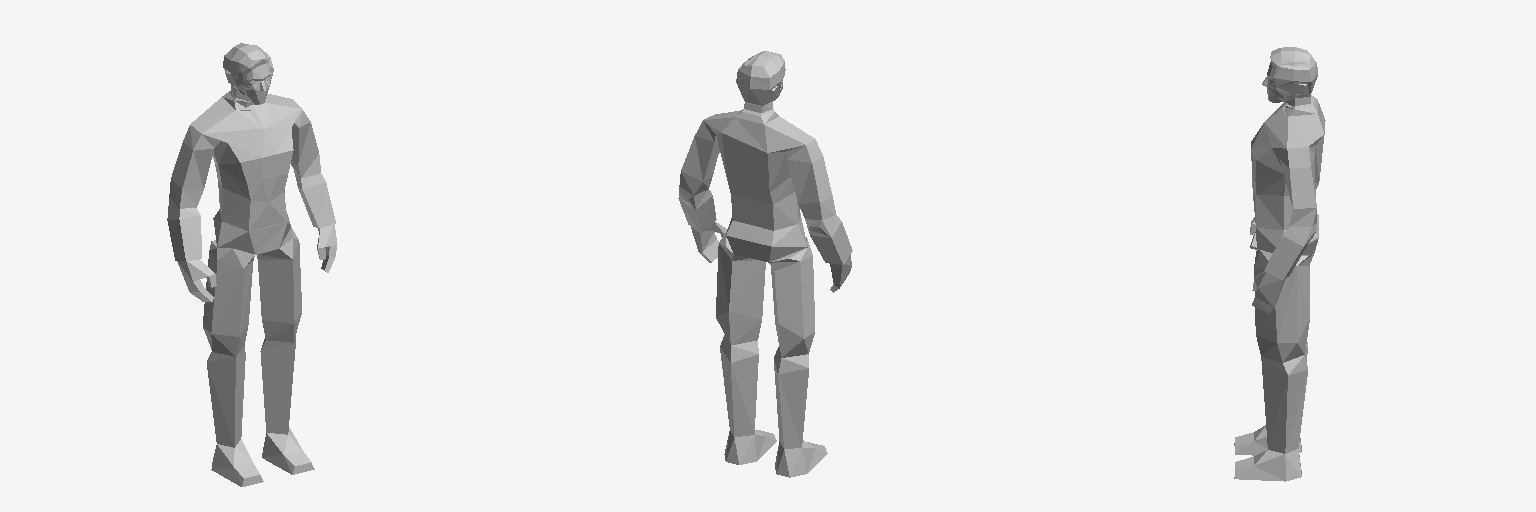
File: Manuel21.obj
3 renders of one model, left to right at view 1: azimuth 30°, elevation 25°; view 2: azimuth 150°, elevation 25°; view 3: azimuth 270°, elevation 25°, orthographic.
Parts seen in each view (by area): view 1: leon; view 2: leon; view 3: leon.
Boxes of the visible parts, x1,y1,x2,y2 form: leon: [167, 43, 337, 486]; leon: [678, 51, 852, 477]; leon: [1234, 47, 1325, 481].
Bounding box in the file's own units: 4.84 × 12.18 × 2.44.